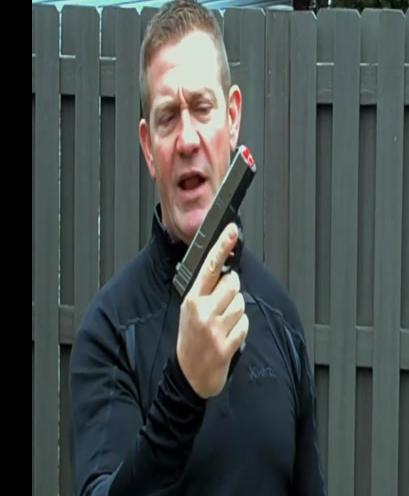pistol: (170, 141, 259, 350)
